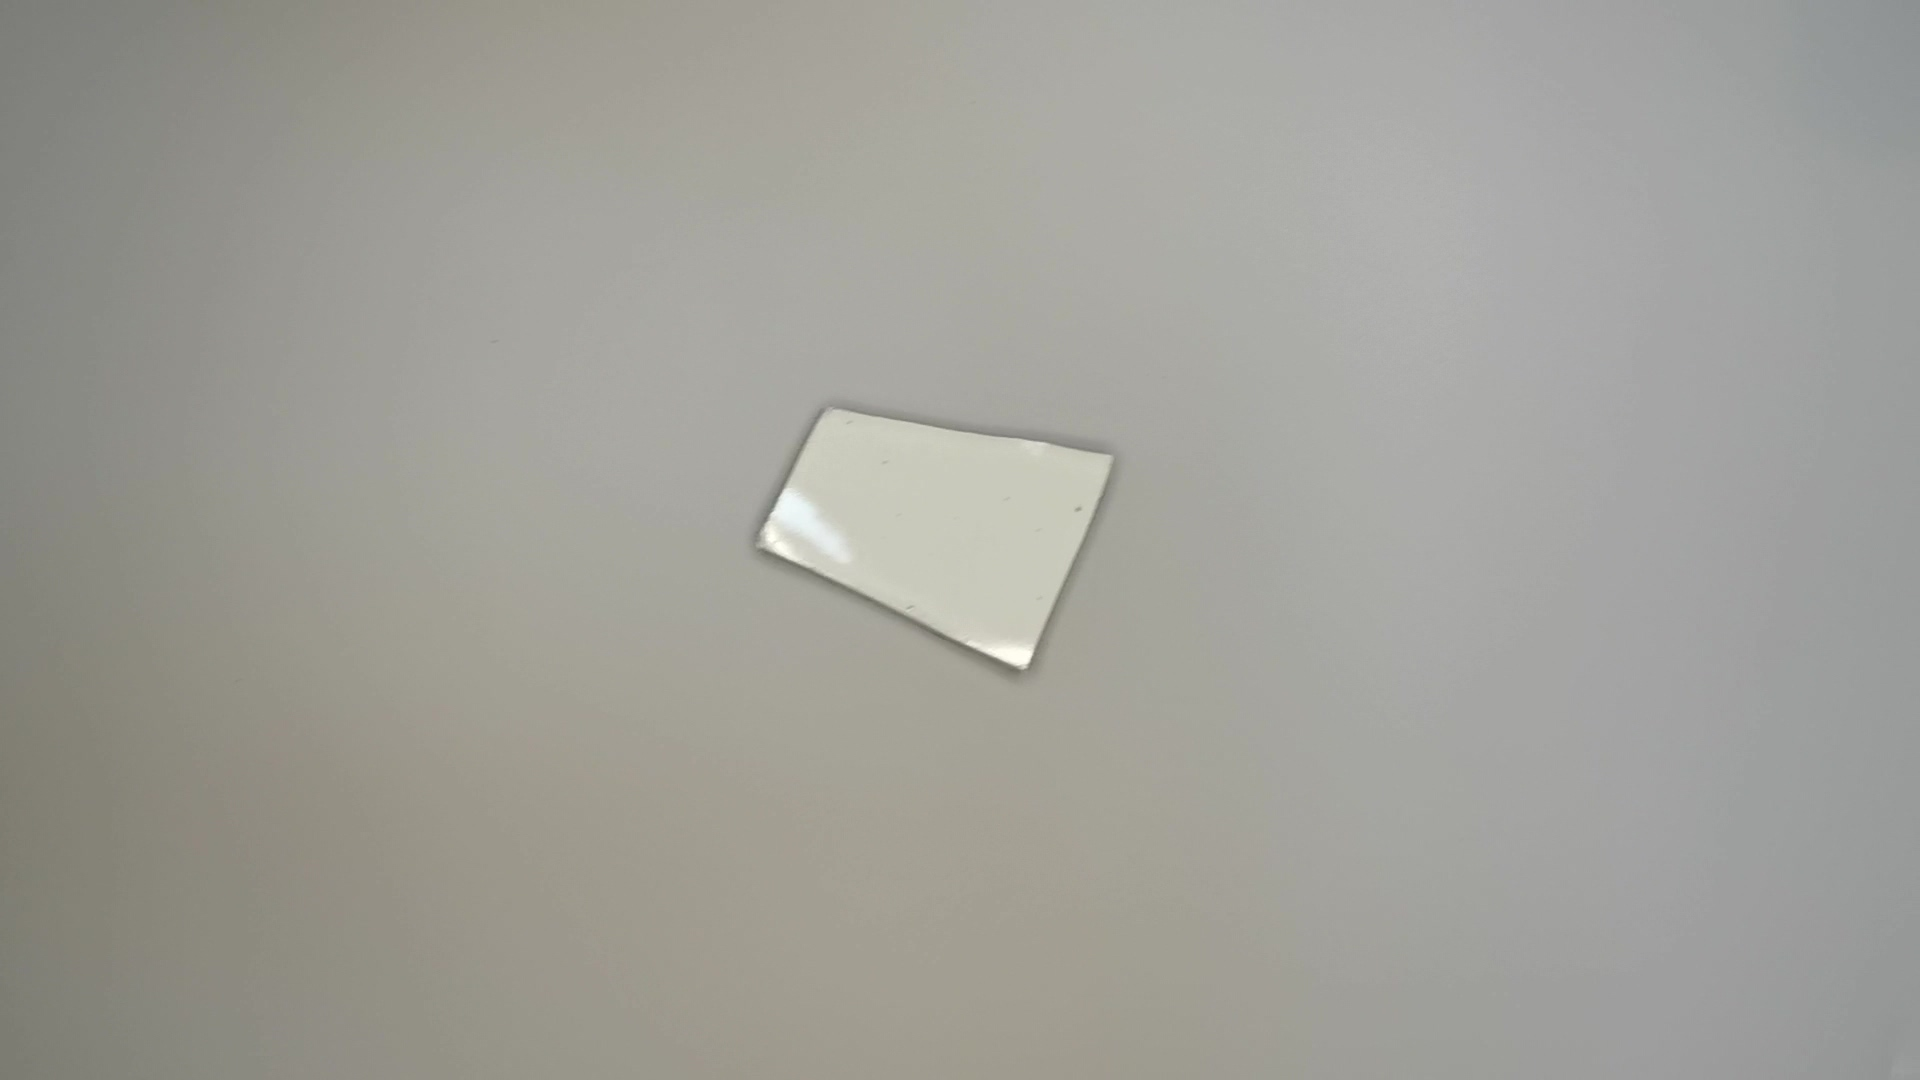ceramic: (744, 401, 1116, 688)
